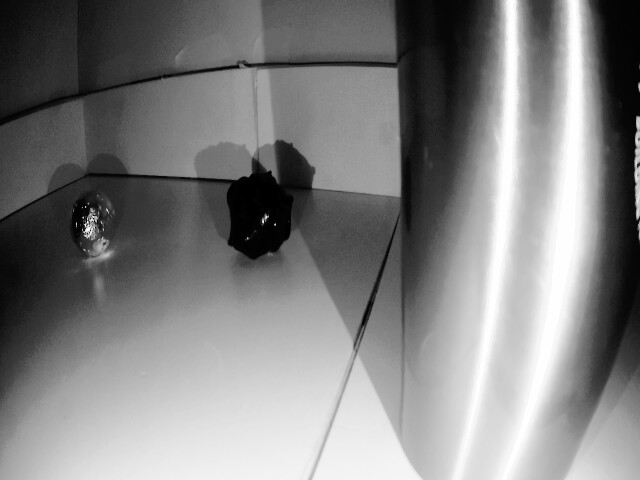black: (228, 158, 295, 258)
silver: (70, 191, 121, 264)
